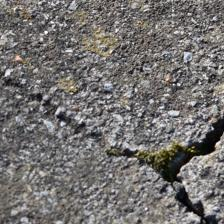Crack: (57, 33, 166, 119), (50, 42, 115, 182), (18, 33, 97, 82)
